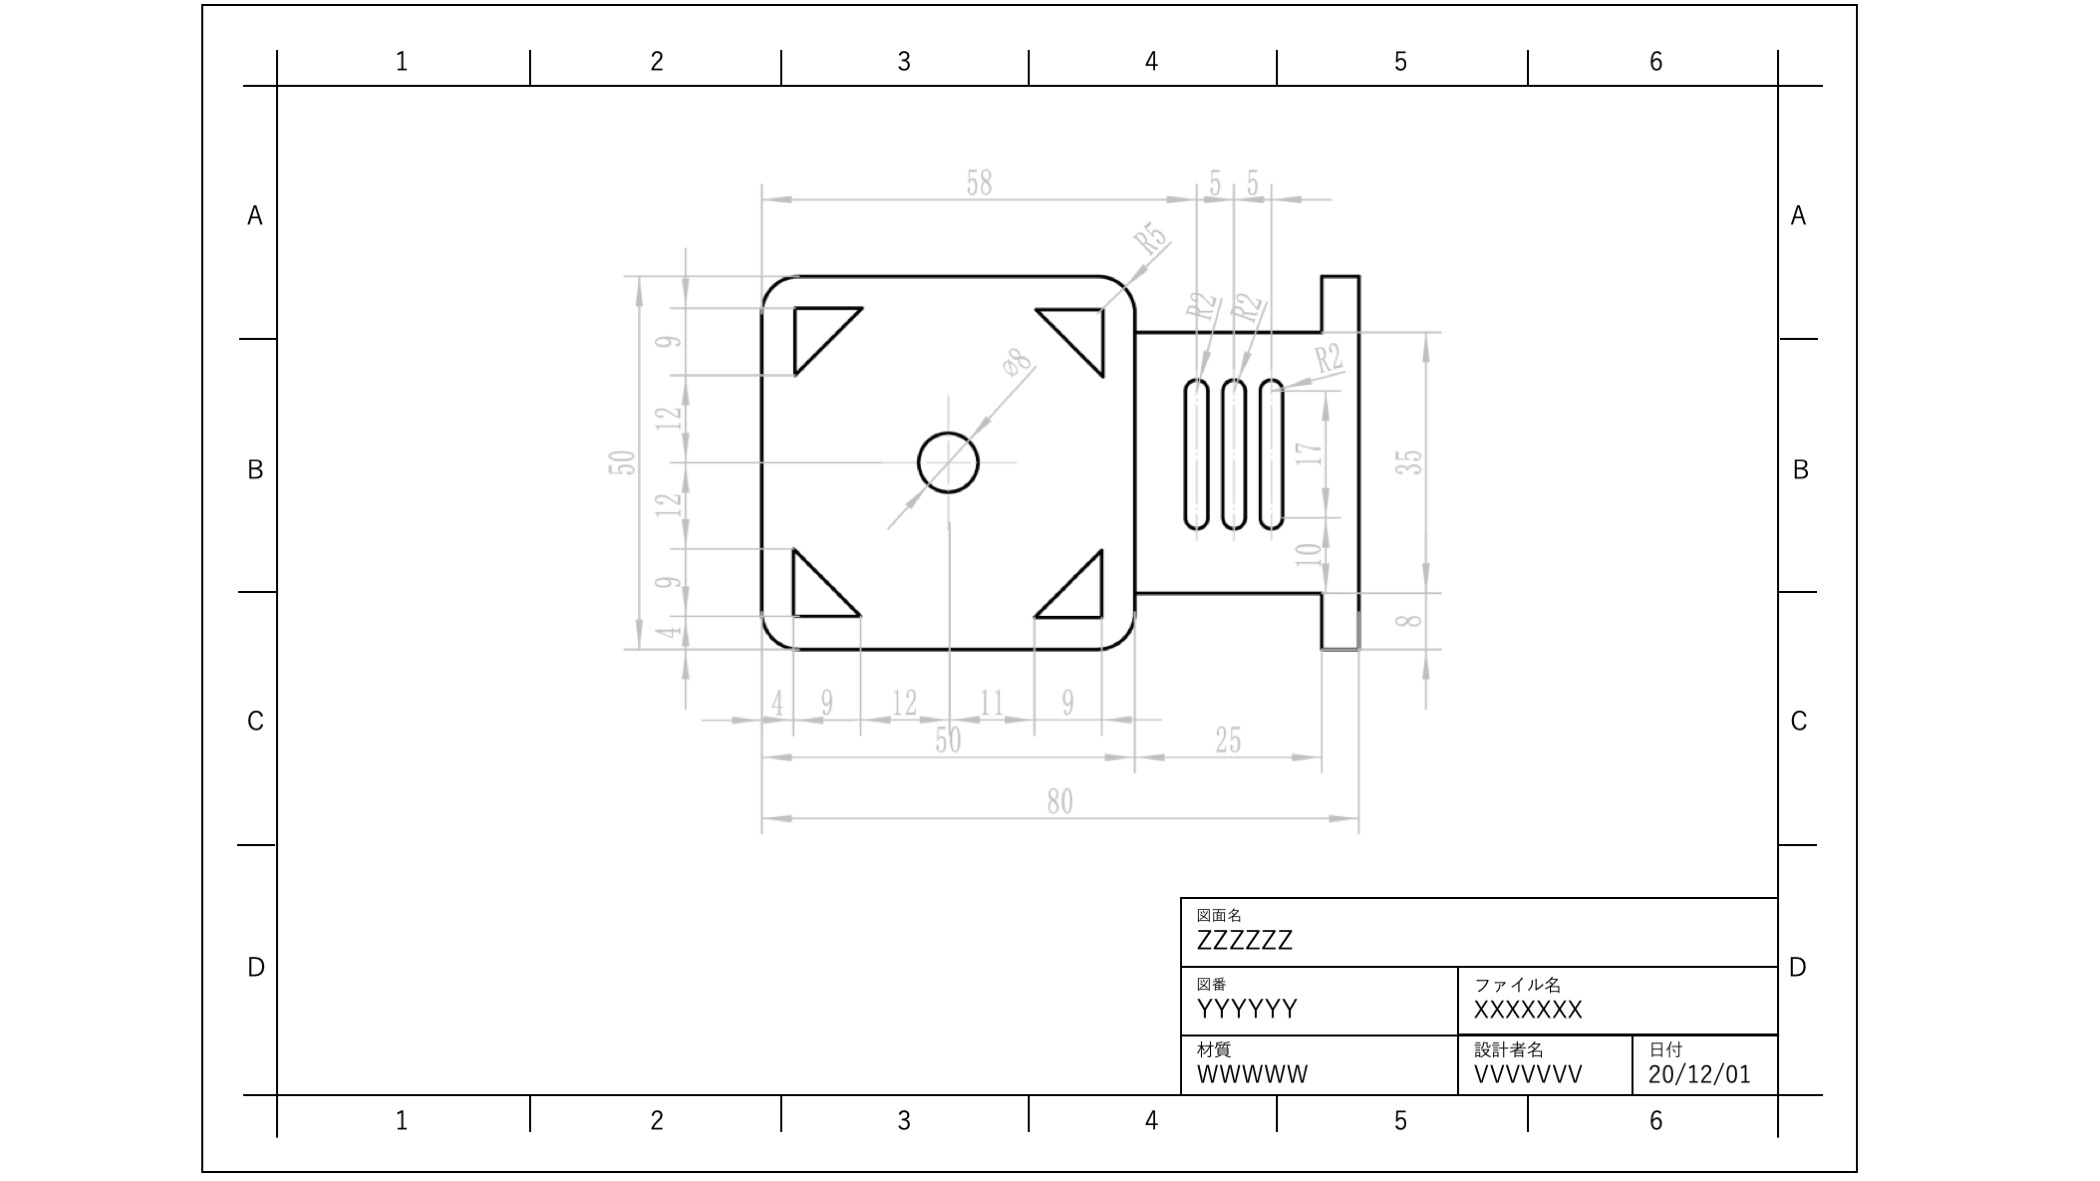circle: (913, 425, 987, 500)
round_rectangle: (1212, 369, 1256, 538), (1250, 368, 1292, 541), (1178, 365, 1214, 544)
triangle: (1027, 301, 1115, 381), (1031, 541, 1108, 627), (783, 545, 862, 626), (787, 300, 864, 376)
